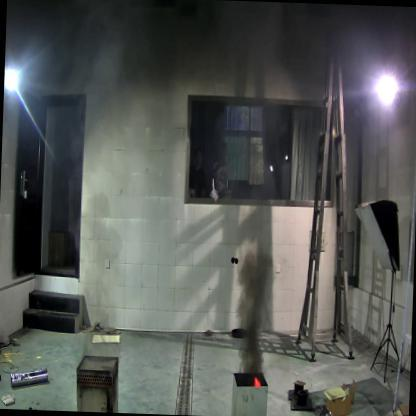smoke: (233, 246, 277, 372)
